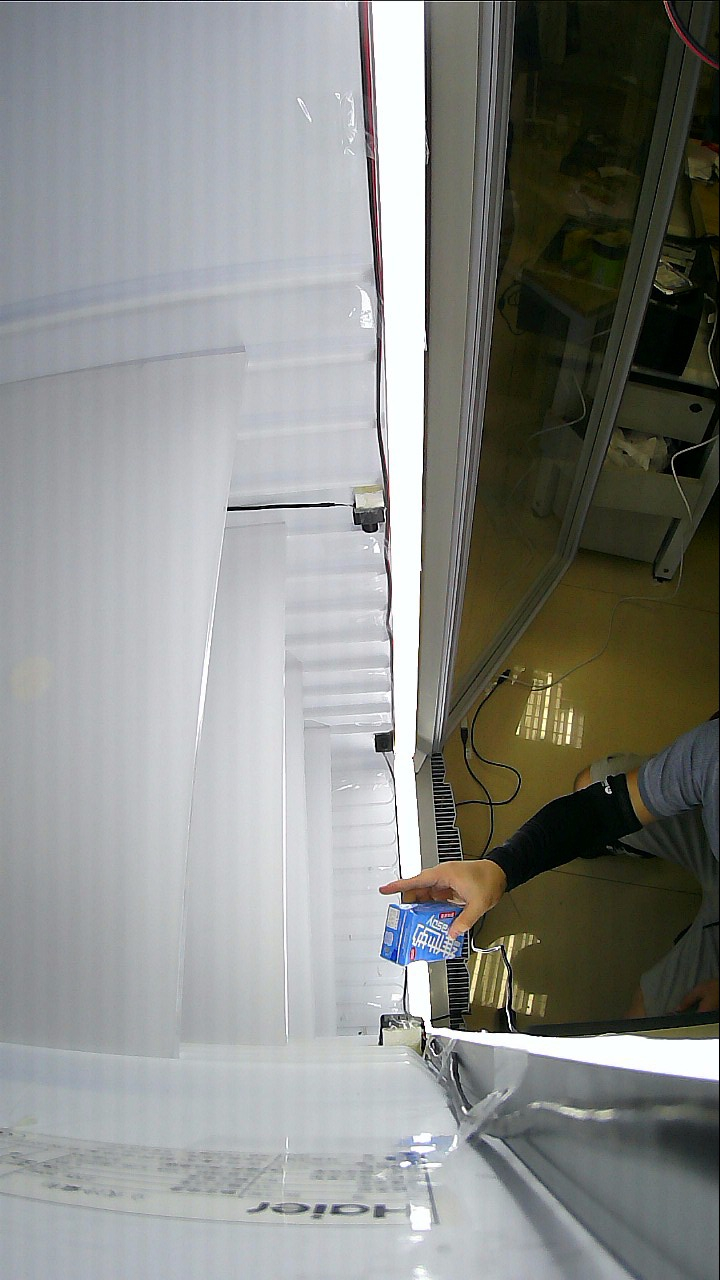VitaSoyOriginal: (384, 818, 540, 969)
